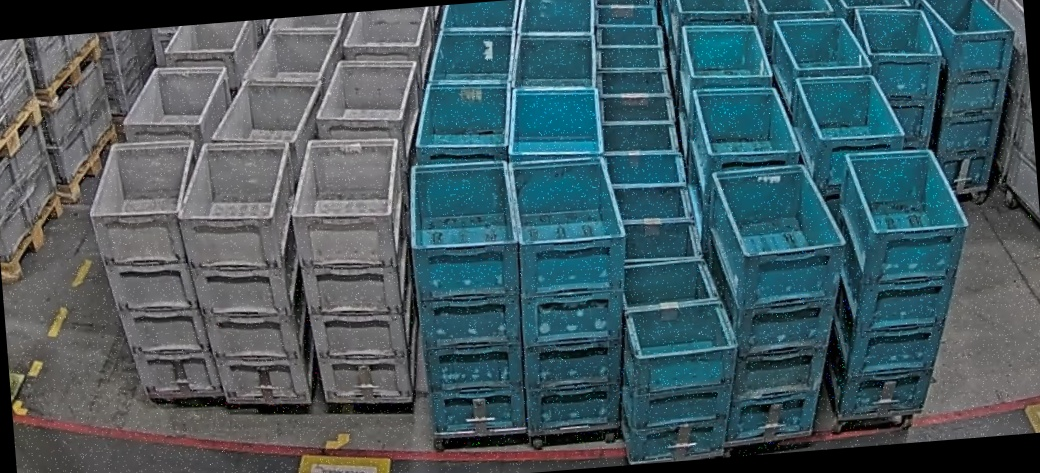4G: (171, 133, 319, 410), (83, 135, 225, 404), (284, 132, 422, 408)
B4: (810, 144, 985, 418), (699, 160, 861, 445), (504, 154, 644, 434), (402, 156, 536, 436), (850, 1, 952, 154)
B8: (607, 256, 749, 465)
